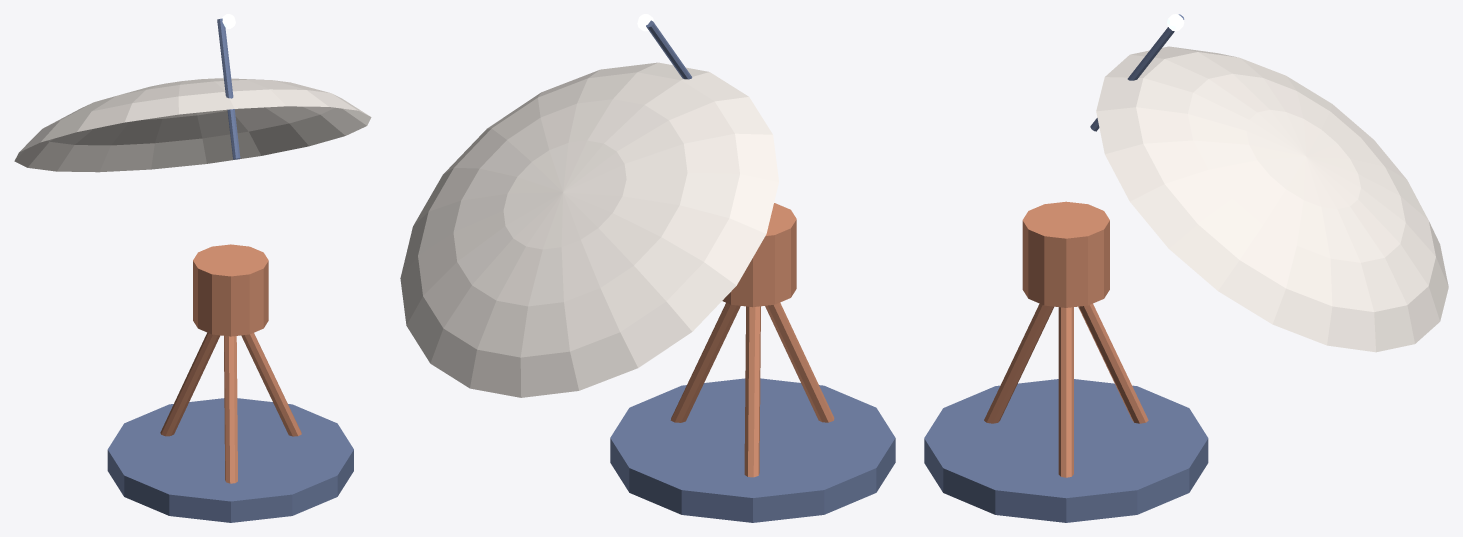
Rendered from comms_dish.glb.
3 renders of one model, left to right at view 1: azimuth 30°, elevation 25°; view 2: azimuth 150°, elevation 25°; view 3: azimuth 270°, elevation 25°, orthographic. The views are drawn at different scales.
Parts seen in each view (by area): view 1: Cylinder, Sphere, Cylinder.004, Cylinder.003, Cylinder.002, Cylinder.001, Cylinder.005; view 2: Sphere, Cylinder, Cylinder.004, Cylinder.002, Cylinder.003, Cylinder.001, Cylinder.005; view 3: Sphere, Cylinder, Cylinder.004, Cylinder.001, Cylinder.002, Cylinder.003, Cylinder.005.
Boxes of the visible parts, bbox=[...] form: Cylinder: bbox=[107, 398, 353, 522]; Sphere: bbox=[14, 78, 371, 172]; Cylinder.004: bbox=[193, 244, 268, 336]; Cylinder.003: bbox=[224, 336, 237, 483]; Cylinder.002: bbox=[160, 332, 220, 436]; Cylinder.001: bbox=[241, 333, 301, 436]; Cylinder.005: bbox=[217, 18, 240, 159]; Sphere: bbox=[400, 62, 778, 397]; Cylinder: bbox=[610, 378, 895, 522]; Cylinder.004: bbox=[722, 203, 796, 307]; Cylinder.002: bbox=[744, 306, 760, 477]; Cylinder.003: bbox=[765, 302, 834, 422]; Cylinder.001: bbox=[670, 303, 740, 422]; Cylinder.005: bbox=[646, 20, 692, 79]; Sphere: bbox=[1096, 46, 1448, 352]; Cylinder: bbox=[924, 379, 1208, 522]; Cylinder.004: bbox=[1022, 201, 1109, 307]; Cylinder.001: bbox=[1058, 307, 1073, 477]; Cylinder.002: bbox=[1078, 303, 1148, 423]; Cylinder.003: bbox=[984, 303, 1053, 423]; Cylinder.005: bbox=[1090, 14, 1184, 131].
Size of the model in its own units: 3.79 by 4.78 by 4.8.
